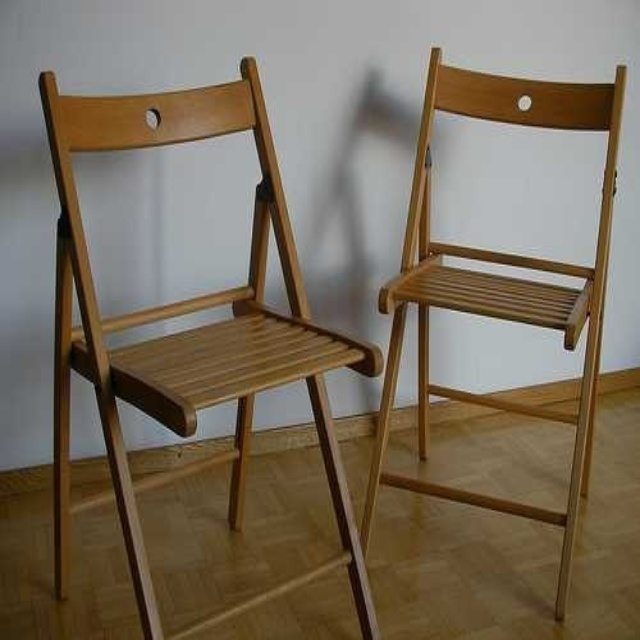obstacle: (40, 58, 380, 637)
